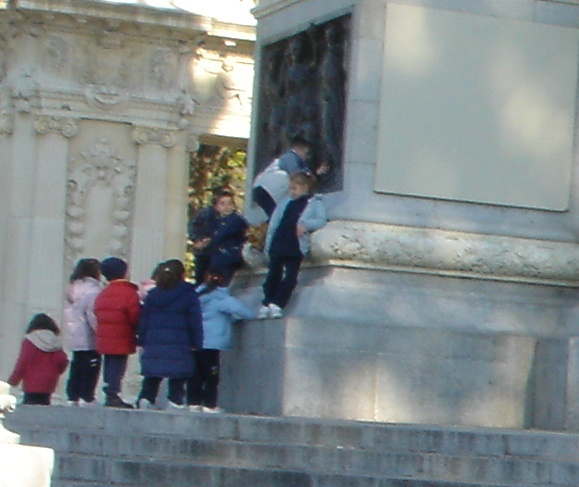person: (148, 257, 197, 407)
